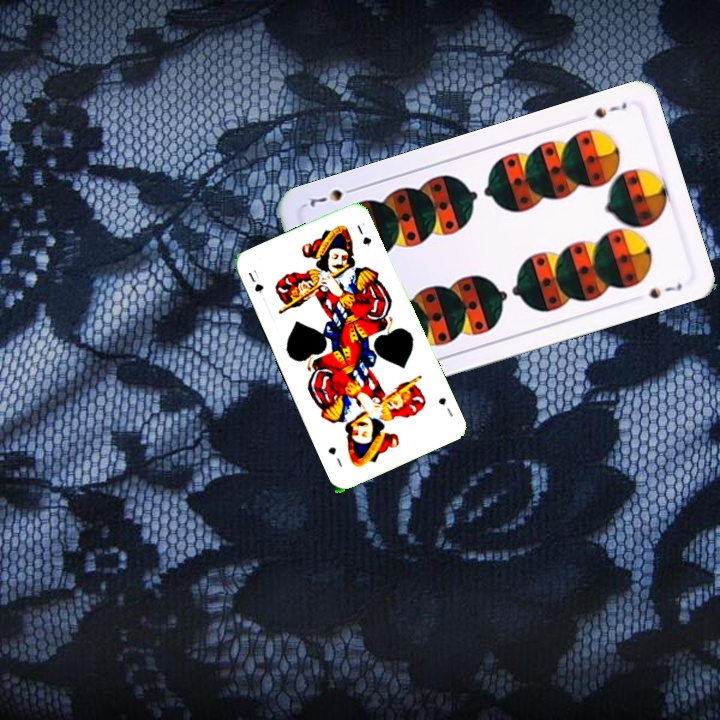GU: (244, 268, 266, 296), (434, 393, 456, 419)
S7: (590, 98, 630, 121)
